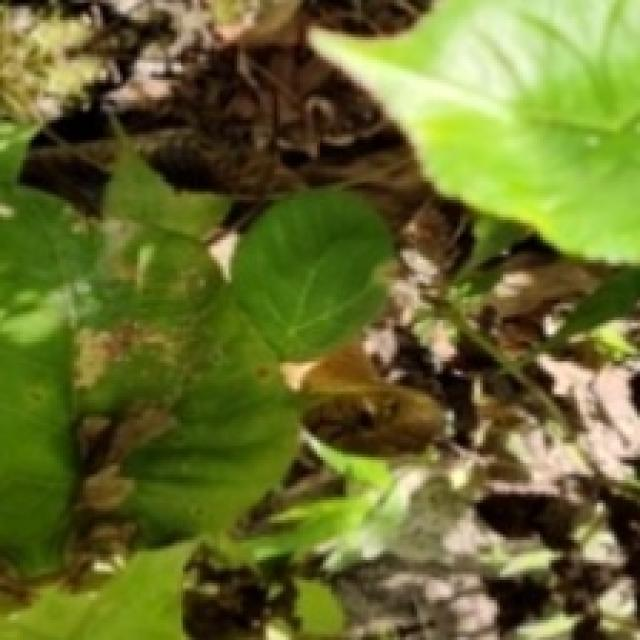king cobra: (0, 406, 171, 614)
